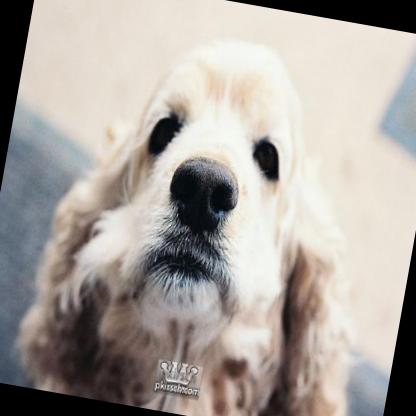cocker_spaniel: (8, 7, 409, 416)
